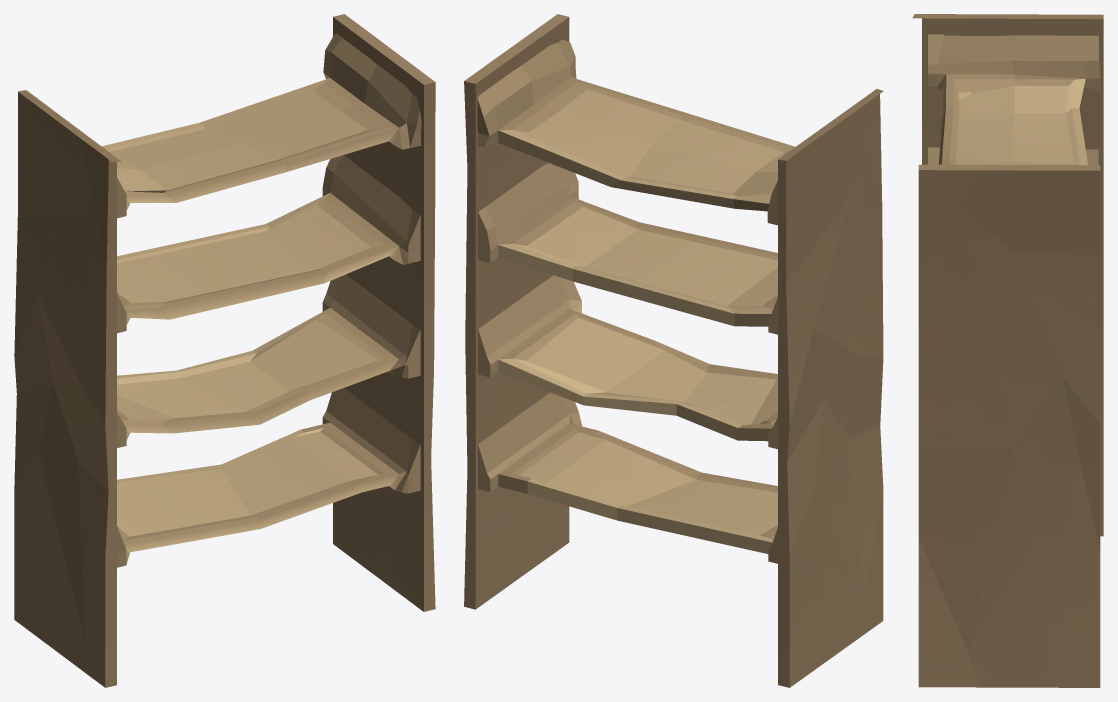
Rendered from shelf_2.glb.
The picture shows the model from 3 angles, left to right: view 1: azimuth 30°, elevation 25°; view 2: azimuth 150°, elevation 25°; view 3: azimuth 270°, elevation 25°; orthographic projection.
Parts seen in each view (by area): view 1: shelf_2; view 2: shelf_2; view 3: shelf_2.
Part boxes in pixels (box(x1,y1,x2,y2)): shelf_2: box(14, 14, 435, 687); shelf_2: box(464, 14, 883, 687); shelf_2: box(912, 14, 1103, 687).
Size of the model in its own units: 1.2 by 1.84 by 0.6172.
1 material, 1 textured.
